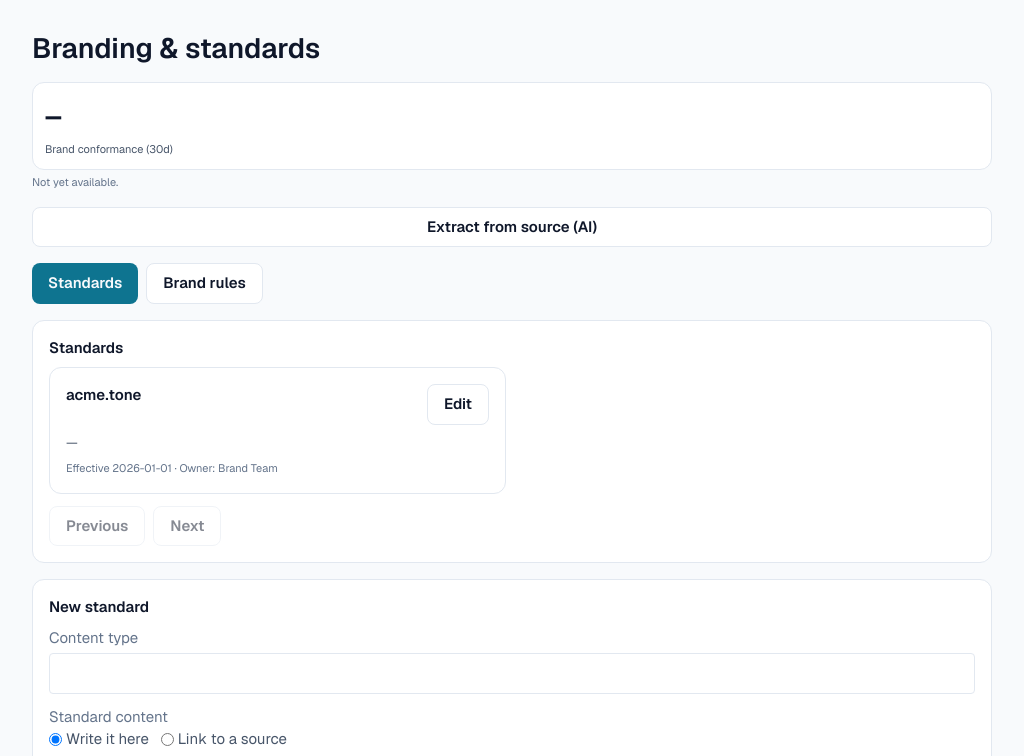
Test: BrandPage › mounts the standards cards, tabs, and both authoring forms
This screenshot has width=1024, height=756.
Check: the element with test id "standard-cards" is shown, box [49, 367, 506, 494]
Check: the field labelled "Content type" is shown, box [49, 653, 975, 694]
Click the tab "Brand rules": (204, 283) [146, 263, 263, 304]
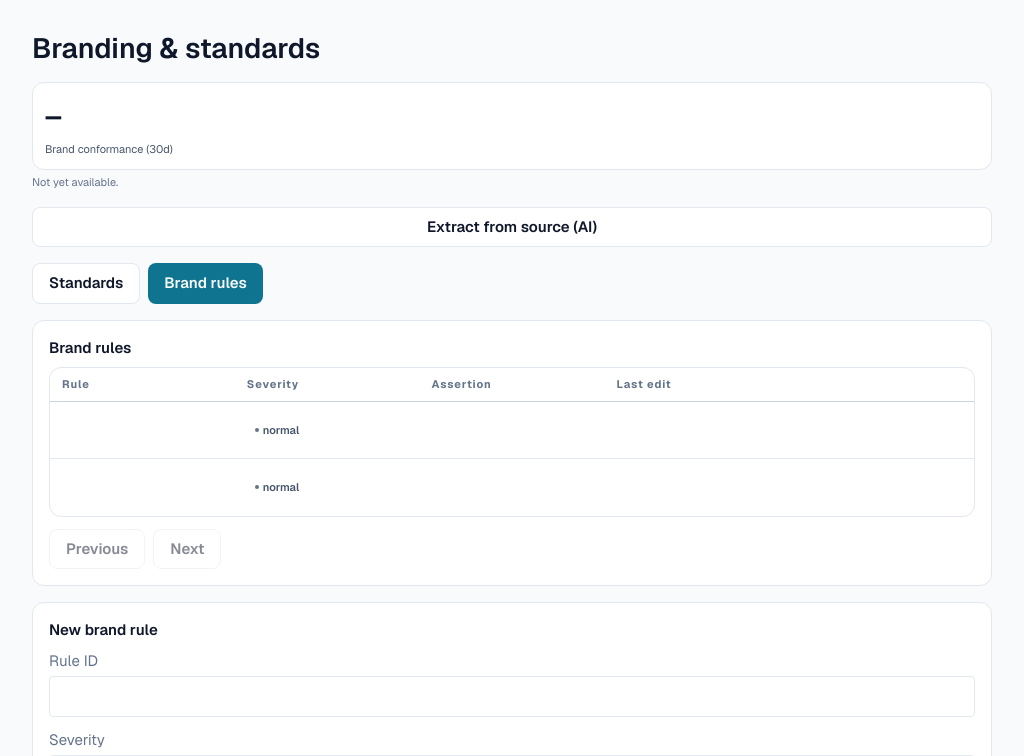
Check: the element with test id "brand-rules-table" is shown, box [49, 367, 975, 517]
Check: the field labelled "Rule ID" is shown, box [49, 676, 975, 717]
